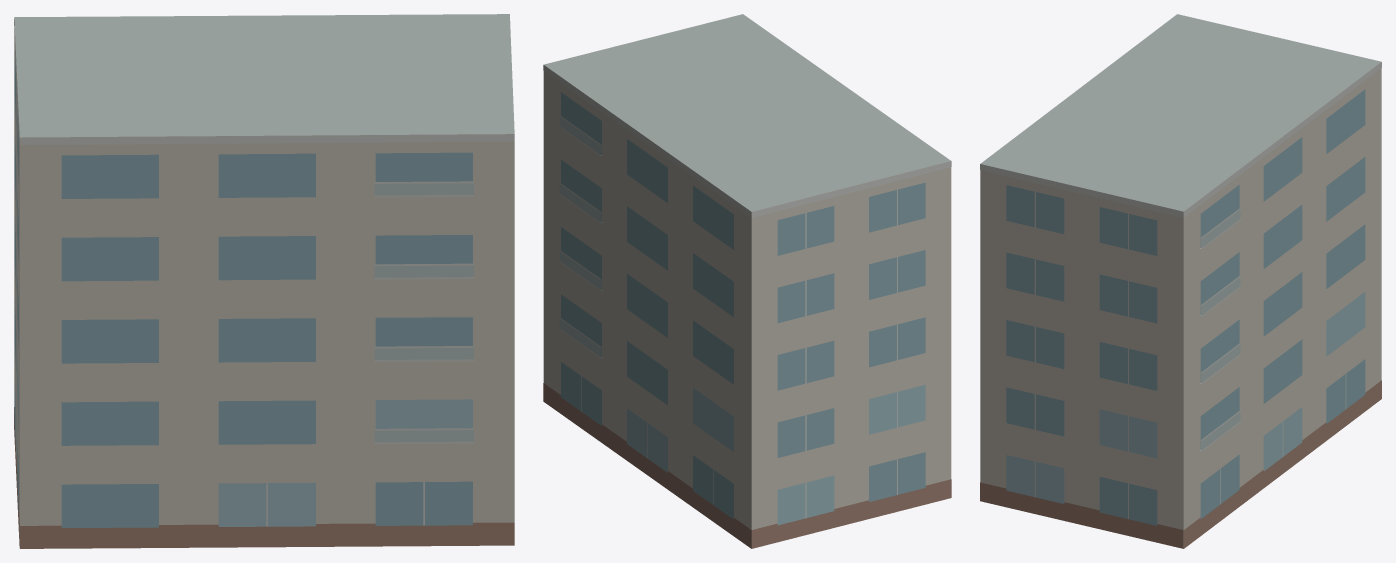
Rendered from survey-upis-32847829.glb.
The picture shows the model from 3 angles, left to right: view 1: azimuth 30°, elevation 25°; view 2: azimuth 150°, elevation 25°; view 3: azimuth 270°, elevation 25°; orthographic projection. The views are drawn at different scales.
Parts seen in each view (by area): view 1: survey-upis-32847829.tmp; view 2: survey-upis-32847829.tmp; view 3: survey-upis-32847829.tmp.
Part boxes in pixels (bbox=[...]): survey-upis-32847829.tmp: bbox=[14, 14, 514, 548]; survey-upis-32847829.tmp: bbox=[543, 14, 951, 548]; survey-upis-32847829.tmp: bbox=[980, 14, 1381, 548].
Bounding box in the file's own units: 16.79 × 13.35 × 14.42.
